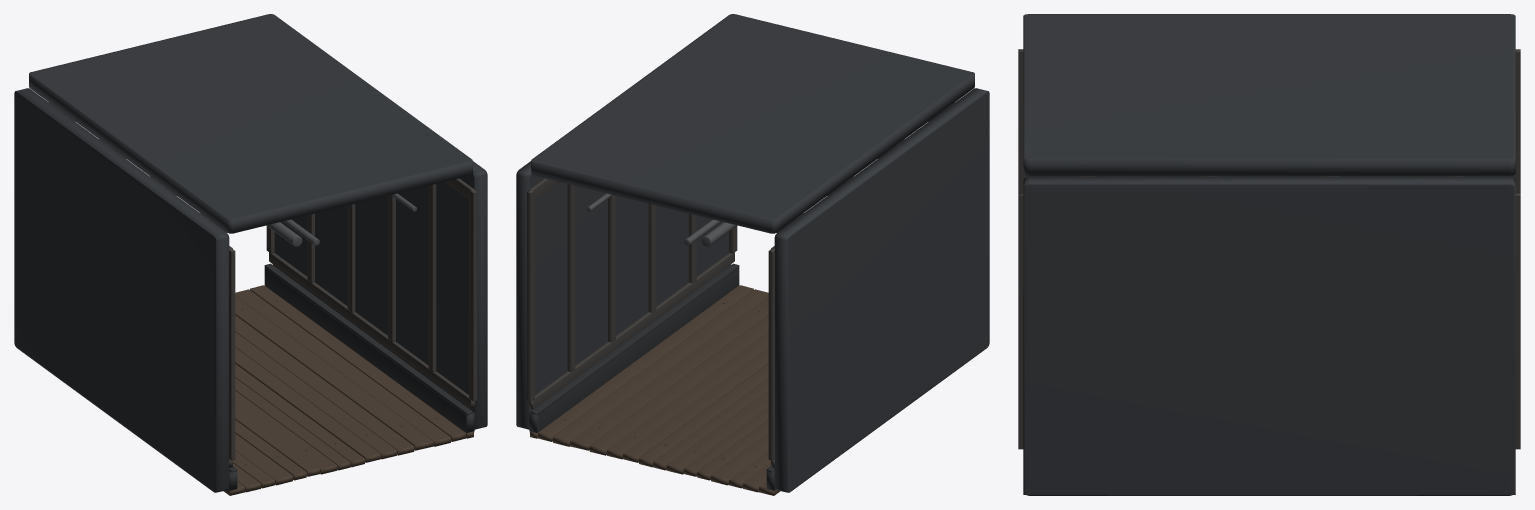
File: Ch2_CorridorSection.fbx
3 views of the same model, side by side, from view 1: azimuth 30°, elevation 25°; view 2: azimuth 150°, elevation 25°; view 3: azimuth 270°, elevation 25° (orthographic). The views are drawn at different scales.
Visible parts, largest first — view 1: Ch2_CorridorSection; view 2: Ch2_CorridorSection; view 3: Ch2_CorridorSection.
Part boxes in pixels (x1,y1,x2,y2): Ch2_CorridorSection: (14,14,487,495); Ch2_CorridorSection: (516,14,989,495); Ch2_CorridorSection: (1018,14,1520,495).
Size of the model in its own units: 3.1 by 3.02 by 4.08.
